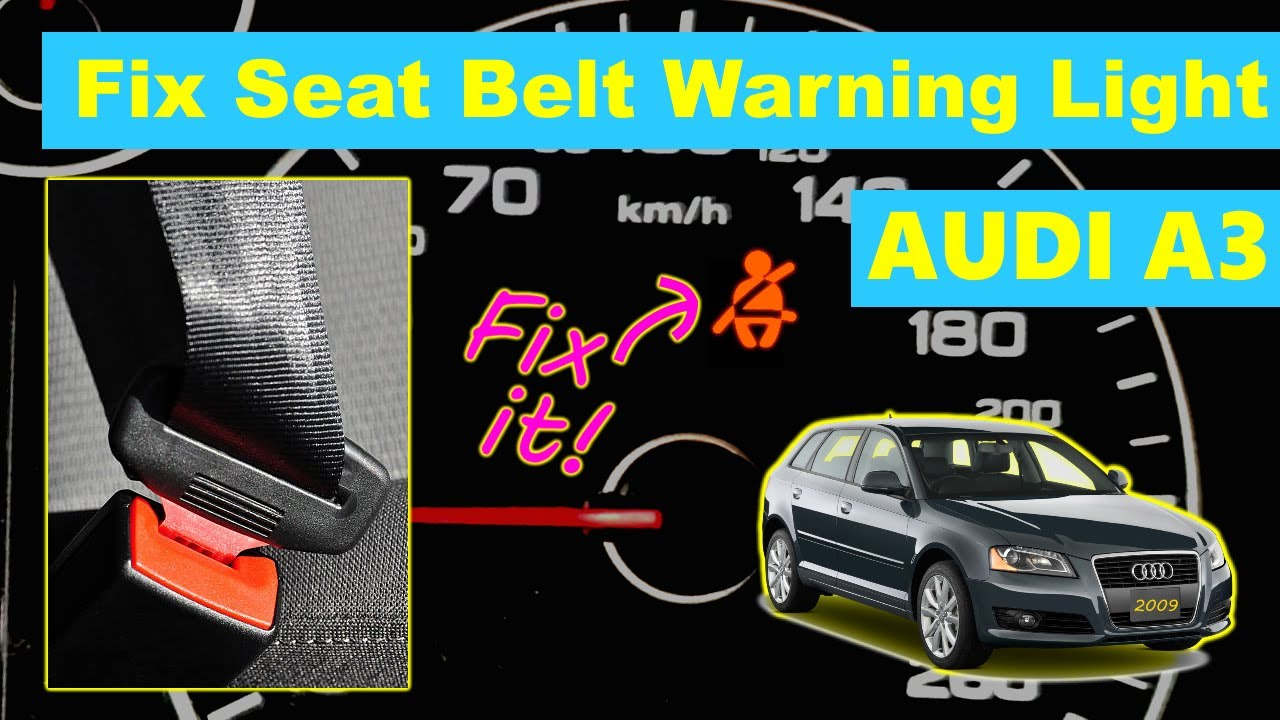Seatbelt_warning: (709, 248, 805, 357)
